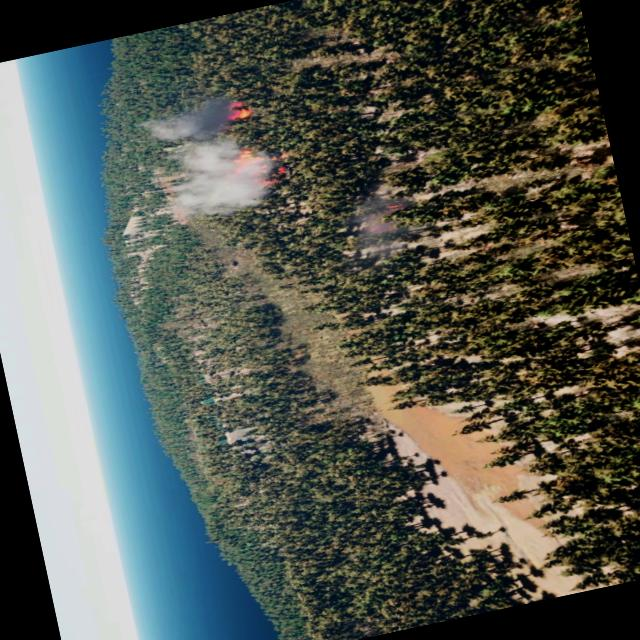fire: (224, 138, 284, 198), (222, 96, 251, 128)
smoke: (140, 85, 276, 227), (332, 185, 420, 265)
